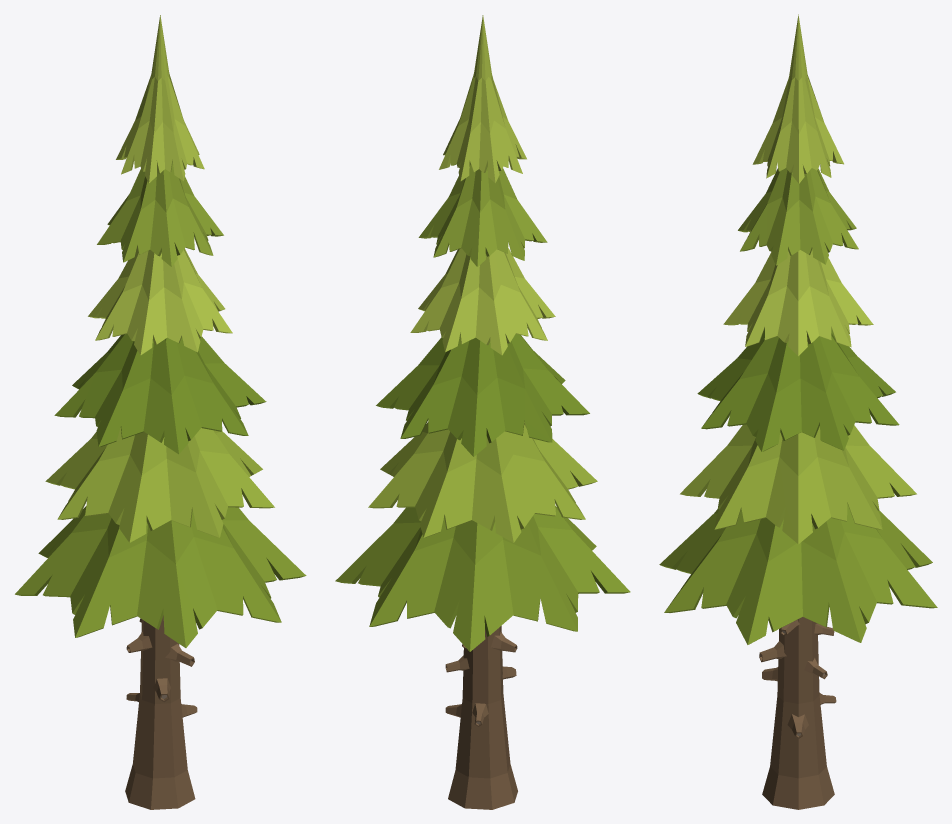
File: NHP_Tree_LP_B1_8m_01.fbx
3 renders of one model, left to right at view 1: azimuth 30°, elevation 25°; view 2: azimuth 150°, elevation 25°; view 3: azimuth 270°, elevation 25°, orthographic.
Parts seen in each view (by area): view 1: NHP_Tree_LP_B1_8m_01_LOD0; view 2: NHP_Tree_LP_B1_8m_01_LOD0; view 3: NHP_Tree_LP_B1_8m_01_LOD0.
Boxes of the visible parts, left/top/right/bottom form: NHP_Tree_LP_B1_8m_01_LOD0: left=15, top=15, right=306, bottom=809; NHP_Tree_LP_B1_8m_01_LOD0: left=335, top=15, right=630, bottom=809; NHP_Tree_LP_B1_8m_01_LOD0: left=659, top=14, right=937, bottom=809.
Size of what is drawn, in the model's own units: 2.68 by 8.3 by 2.69.
